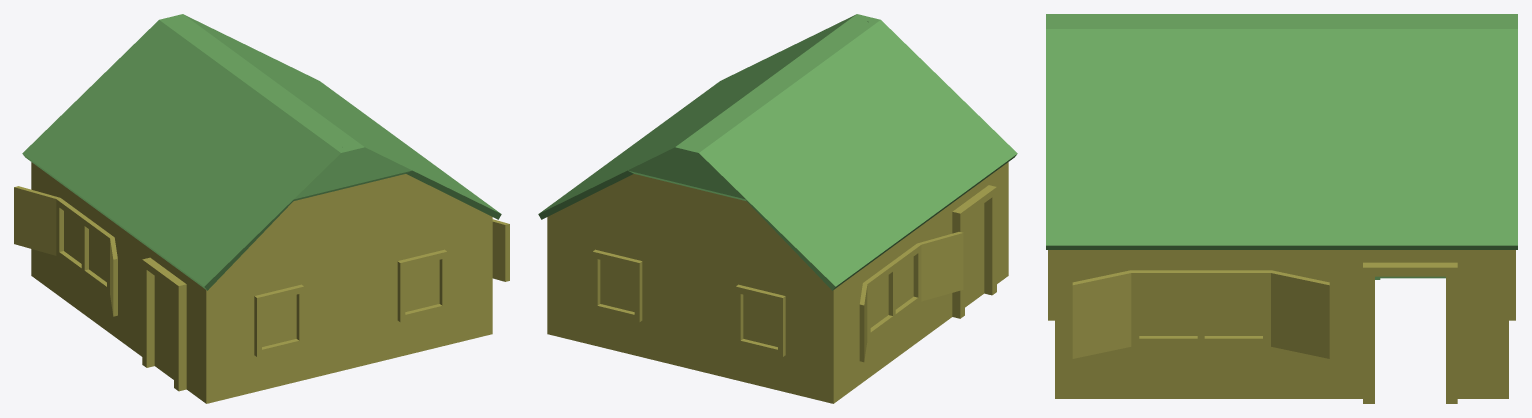
File: farm_house.fbx
The picture shows the model from 3 angles, left to right: view 1: azimuth 30°, elevation 25°; view 2: azimuth 150°, elevation 25°; view 3: azimuth 270°, elevation 25°; orthographic projection. The views are drawn at different scales.
Parts seen in each view (by area): view 1: pPlane15, pPlane9, pPlane10, pPlane7, pPlane1; view 2: pPlane15, pPlane4, pPlane8, pPlane7; view 3: pPlane15, pPlane1, pPlane4, pPlane9.
Boxes of the visible parts, bbox=[...] form: pPlane15: bbox=[22, 14, 501, 290]; pPlane9: bbox=[349, 174, 492, 368]; pPlane10: bbox=[206, 187, 349, 403]; pPlane7: bbox=[14, 162, 206, 403]; pPlane1: bbox=[492, 219, 509, 281]; pPlane15: bbox=[538, 14, 1017, 290]; pPlane4: bbox=[547, 174, 690, 368]; pPlane8: bbox=[690, 187, 833, 403]; pPlane7: bbox=[833, 162, 1008, 403]; pPlane15: bbox=[1046, 14, 1517, 249]; pPlane1: bbox=[1055, 250, 1508, 403]; pPlane4: bbox=[1509, 250, 1515, 320]; pPlane9: bbox=[1048, 250, 1054, 320].
Bounding box in the file's own units: 7 × 4.45 × 6.61.
